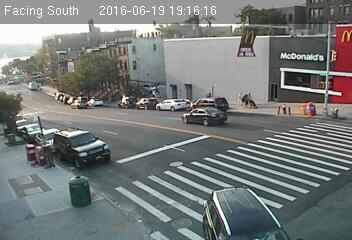neg: (66, 164, 102, 210), (294, 134, 328, 179), (217, 163, 246, 200), (178, 28, 204, 62), (213, 95, 238, 128), (129, 86, 153, 118), (66, 33, 89, 64), (25, 158, 48, 188), (96, 117, 118, 146), (239, 50, 261, 79), (42, 73, 64, 102), (31, 115, 53, 144), (170, 195, 191, 225), (271, 142, 292, 171), (131, 43, 152, 72), (275, 83, 295, 110), (302, 38, 322, 65), (156, 151, 176, 177), (121, 178, 139, 202)
